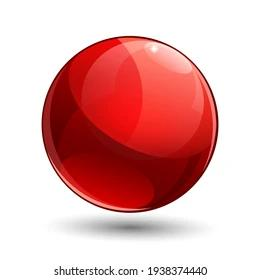red_circle: (31, 25, 229, 222)
